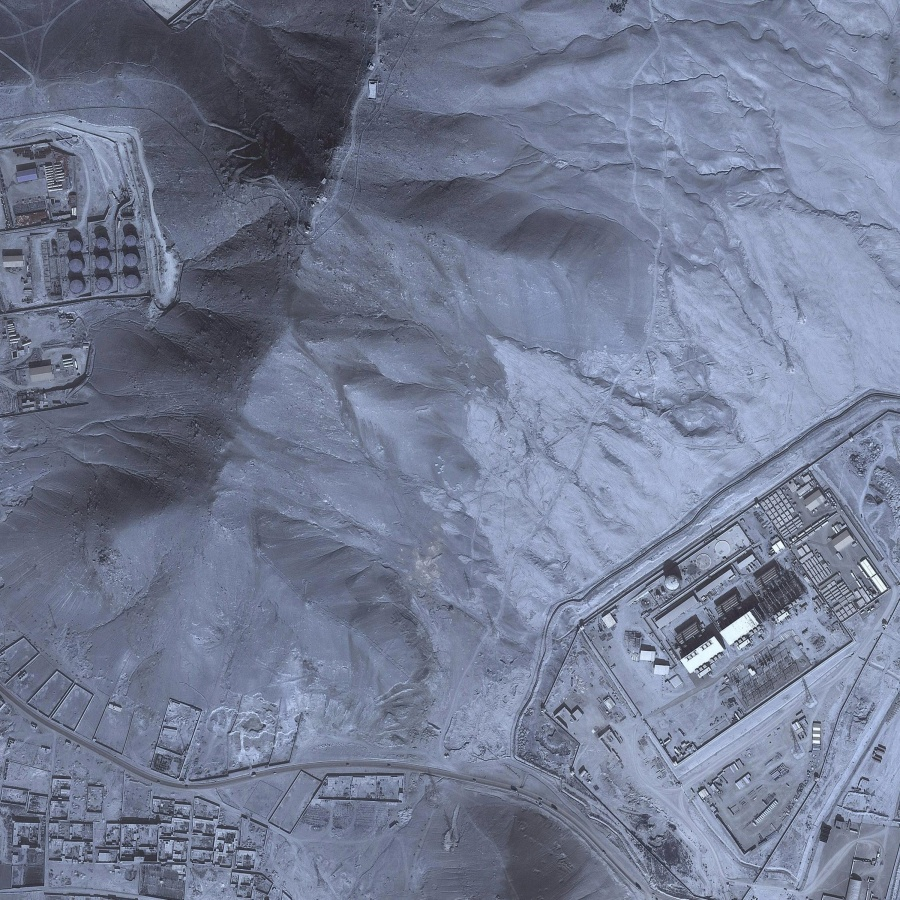PowerPlant: (638, 493, 887, 677)
